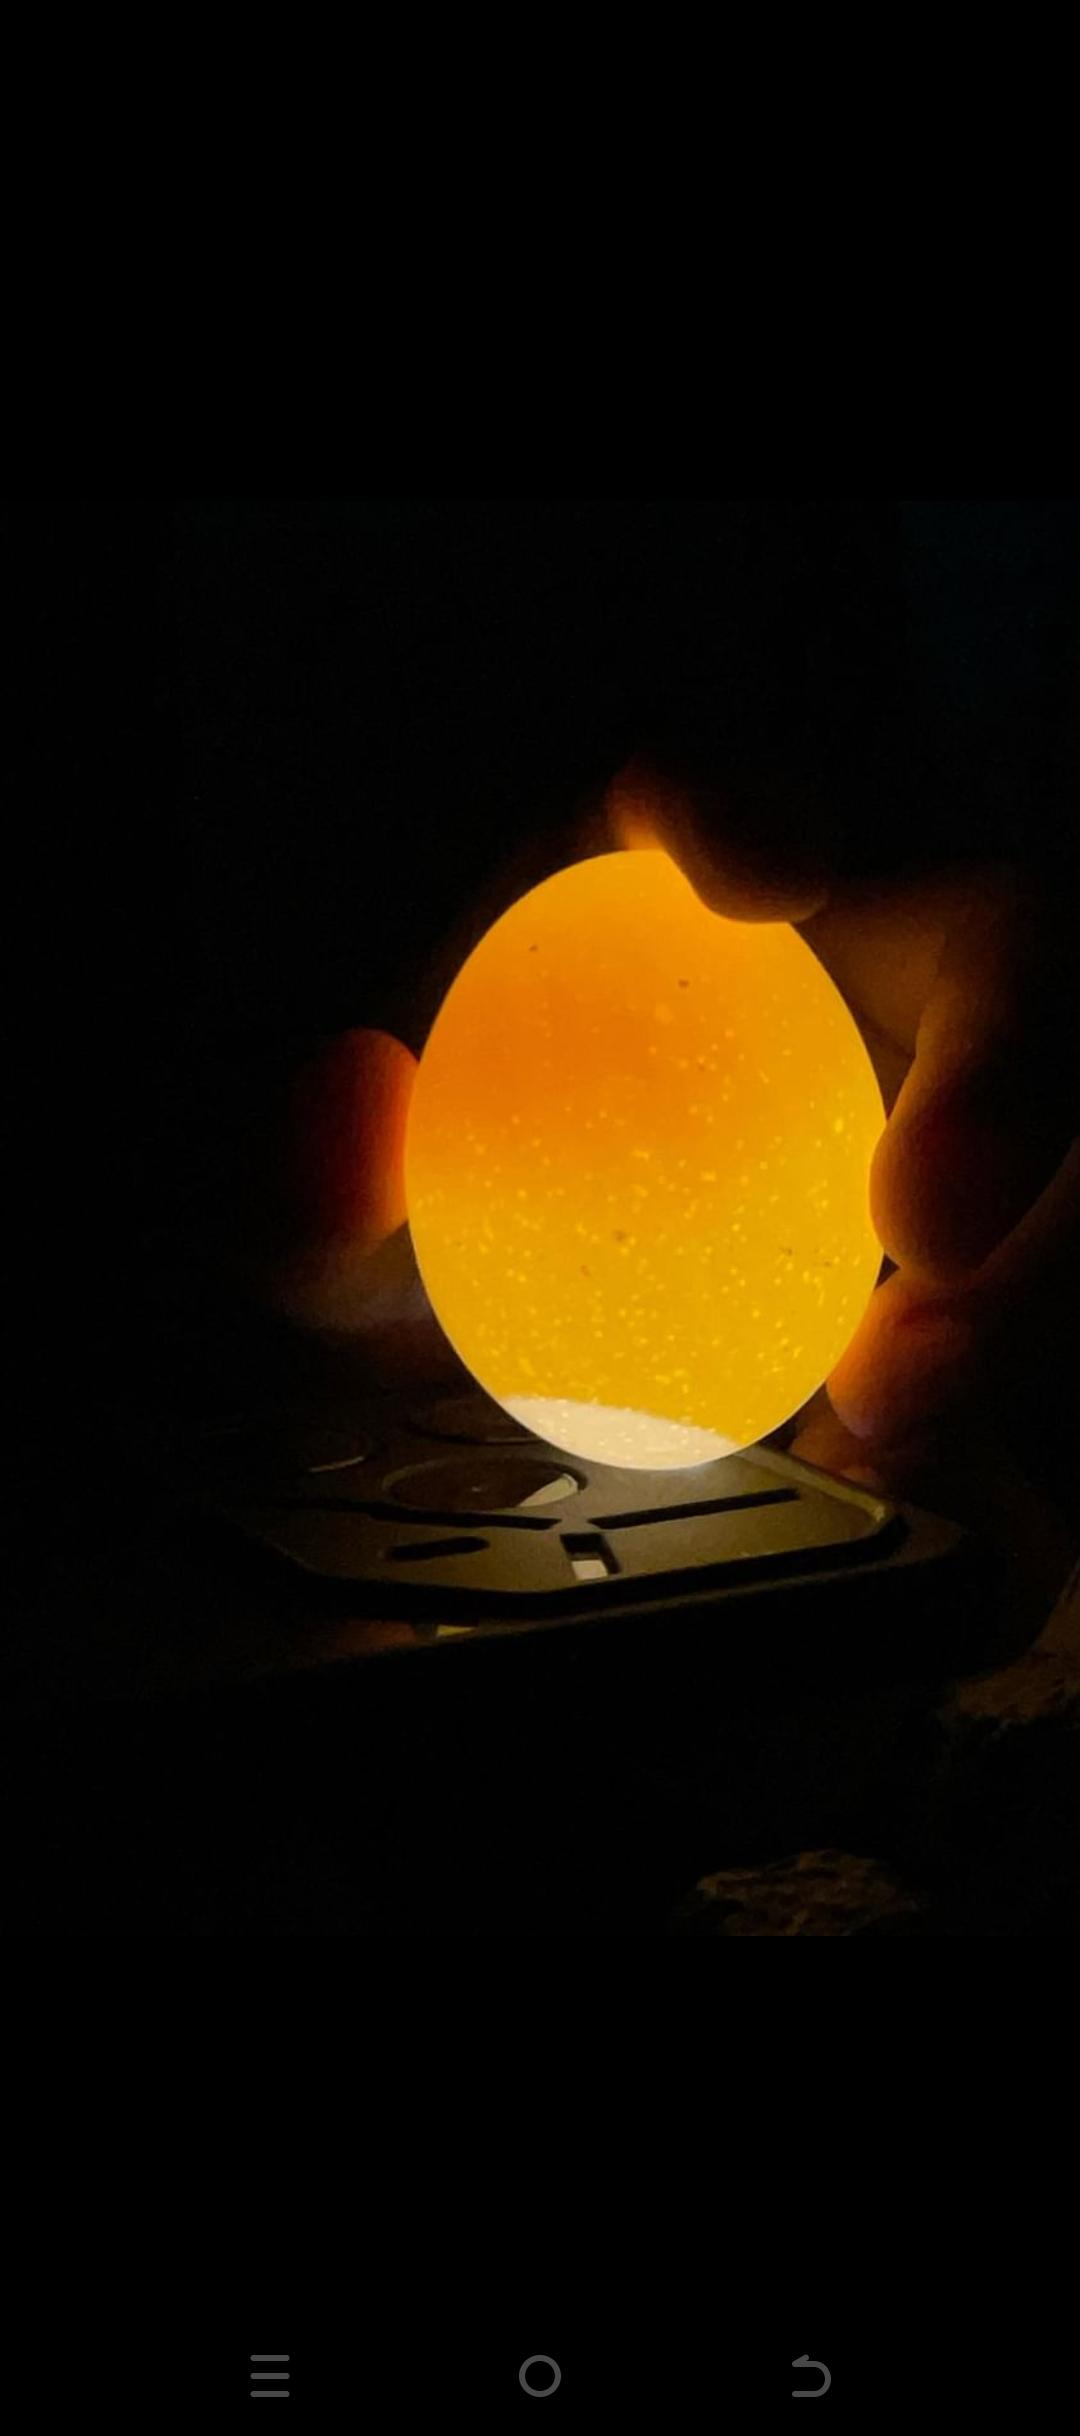AA - Premium: (387, 837, 897, 1527)
